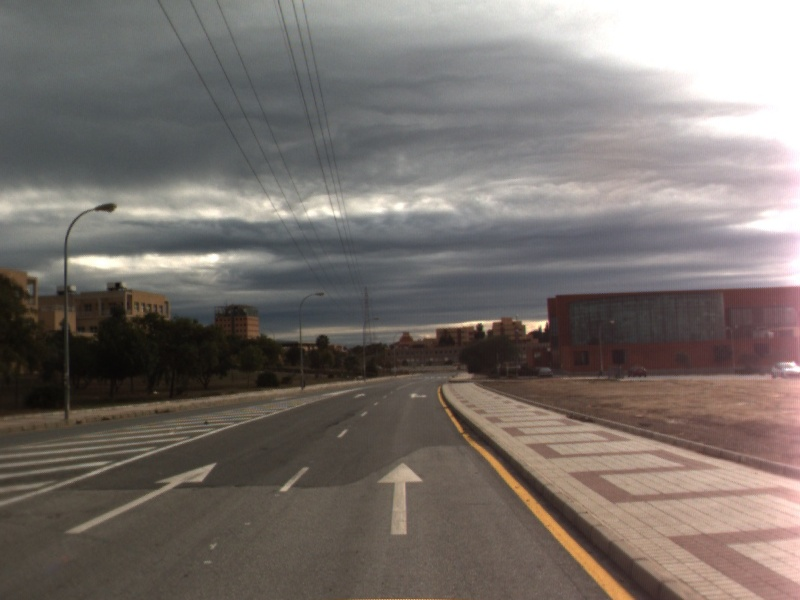STRAIGHT: (62, 461, 219, 536), (375, 460, 426, 537)
STRAIGHT_RIGHT: (406, 391, 429, 400)
